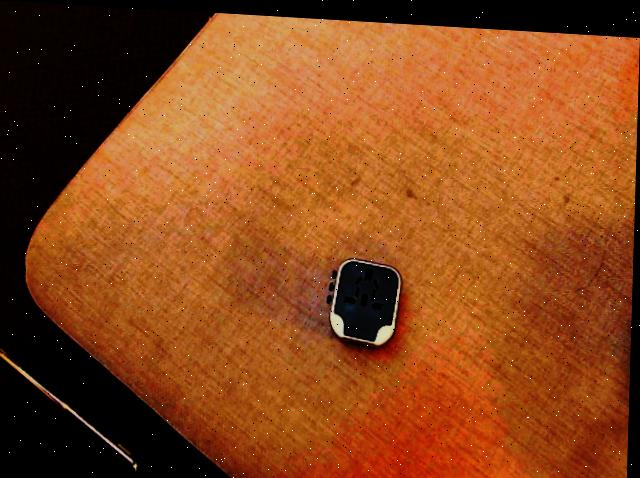adapter: (326, 252, 403, 345)
